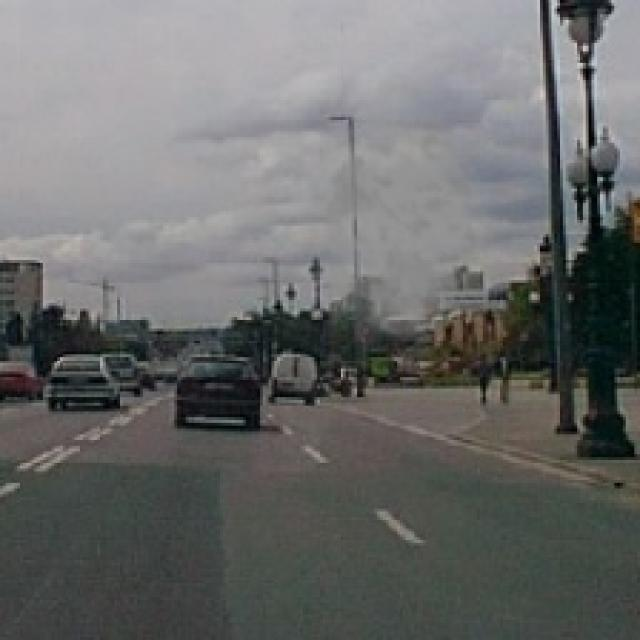smoke: (280, 108, 497, 363)
